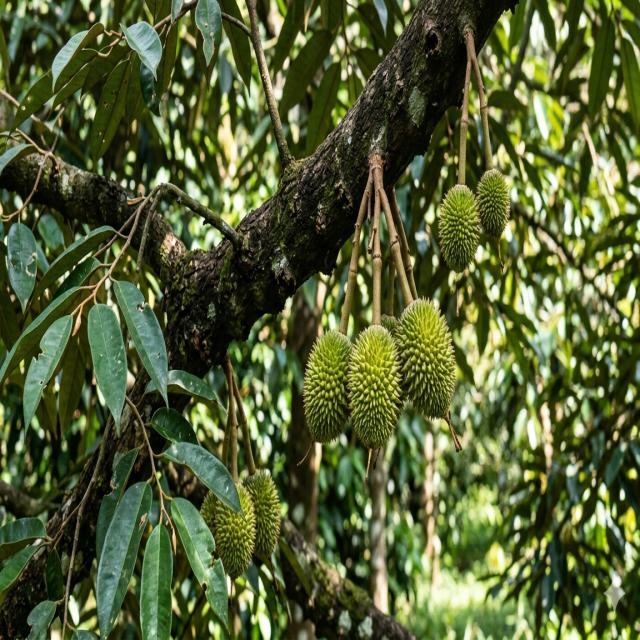immature: (395, 295, 457, 421), (345, 324, 403, 451), (302, 327, 354, 446), (203, 482, 255, 578), (437, 183, 481, 278), (240, 468, 281, 564), (475, 168, 512, 240)
